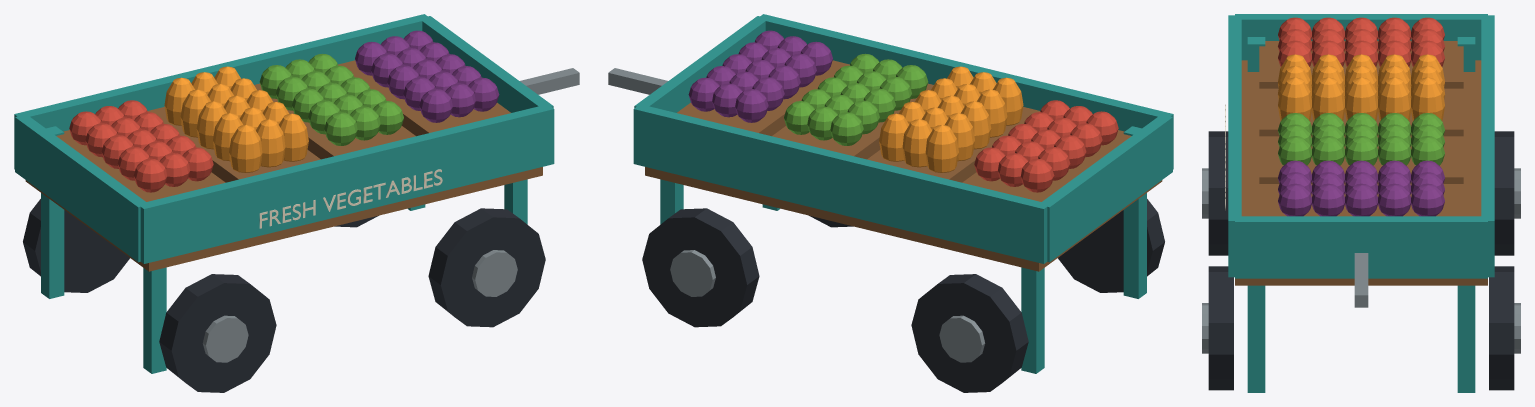
File: vegetable_cart.glb
3 views of the same model, side by side, from view 1: azimuth 30°, elevation 25°; view 2: azimuth 150°, elevation 25°; view 3: azimuth 270°, elevation 25° (orthographic). The views are drawn at different scales.
Parts seen in each view (by area): view 1: vegetable_cart_Mesh; view 2: vegetable_cart_Mesh; view 3: vegetable_cart_Mesh.
Part boxes in pixels (box(x1,y1,x2,y2)): vegetable_cart_Mesh: box(14, 14, 579, 392); vegetable_cart_Mesh: box(608, 14, 1173, 392); vegetable_cart_Mesh: box(1202, 14, 1520, 392).
Size of the model in its own units: 3.04 by 1.29 by 1.64.
